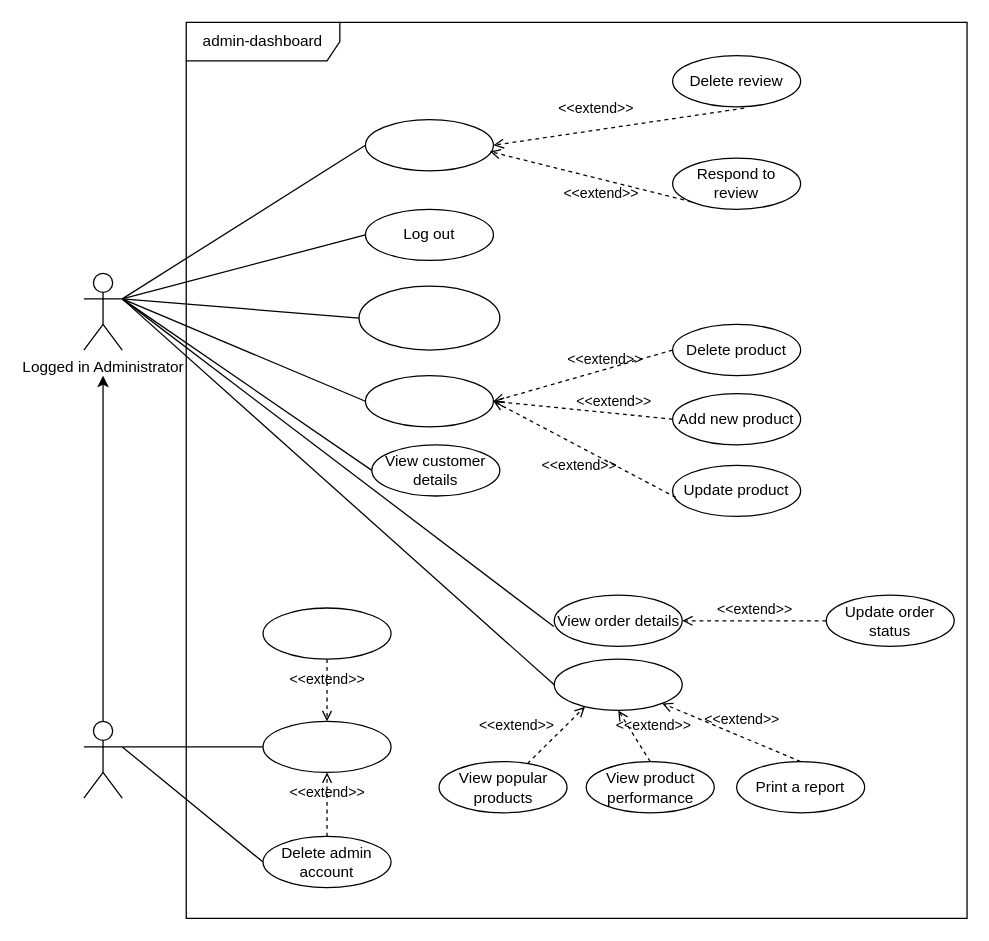
The diagram is 989 pixels wide and 941 high, and some of its shapes have lost their labels. Here are the shapes that lost their labels. From the top down, the box of each, then its label:
(364, 118, 493, 171): View customer reviews
(358, 285, 500, 350): Send promotional email
(364, 374, 493, 427): View product catalog
(262, 607, 391, 659): Add admin account
(553, 658, 682, 710): View analytics dashboard
(83, 720, 122, 798): Super Admin
(262, 720, 391, 772): View admin accounts
